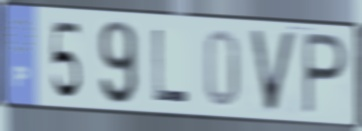0: (202, 27, 241, 111)
5: (49, 19, 83, 100)
9: (97, 18, 139, 107)
L: (151, 26, 190, 106)
P: (301, 30, 350, 119)
V: (247, 26, 300, 117)
